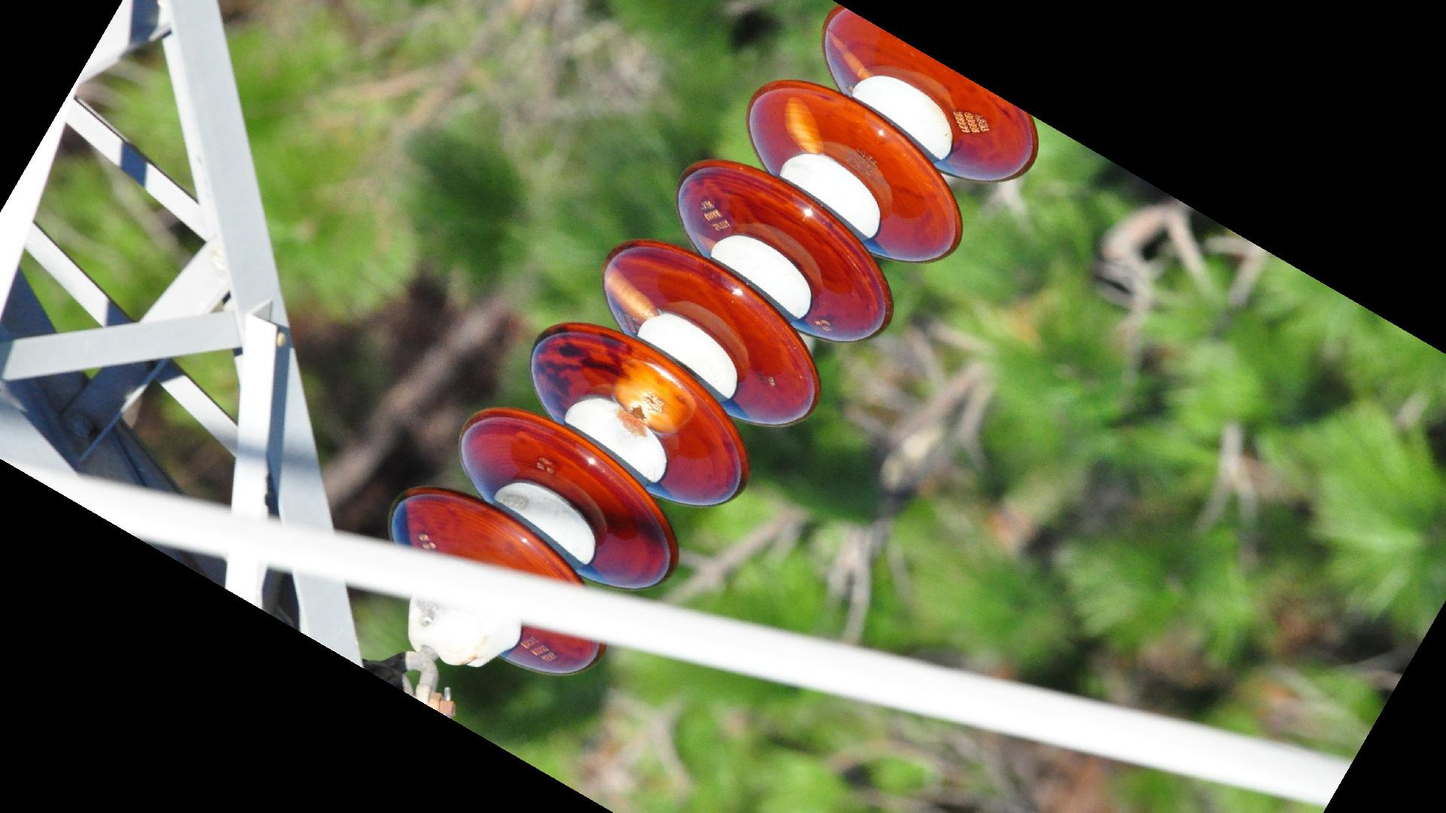insulator: (386, 1, 1052, 682)
insulator_flashover: (609, 354, 699, 441), (600, 258, 660, 324), (782, 94, 827, 157), (825, 27, 877, 81)
